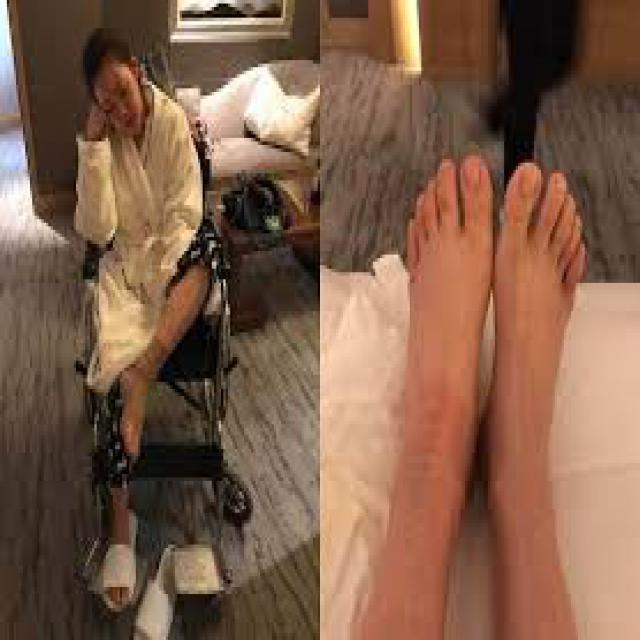wheelchairs: (75, 102, 254, 604)
